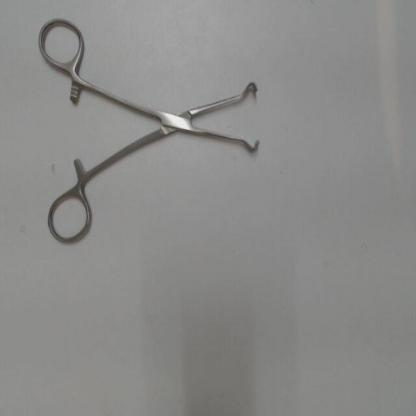Babcock Tissue Forceps: (29, 14, 265, 249)
